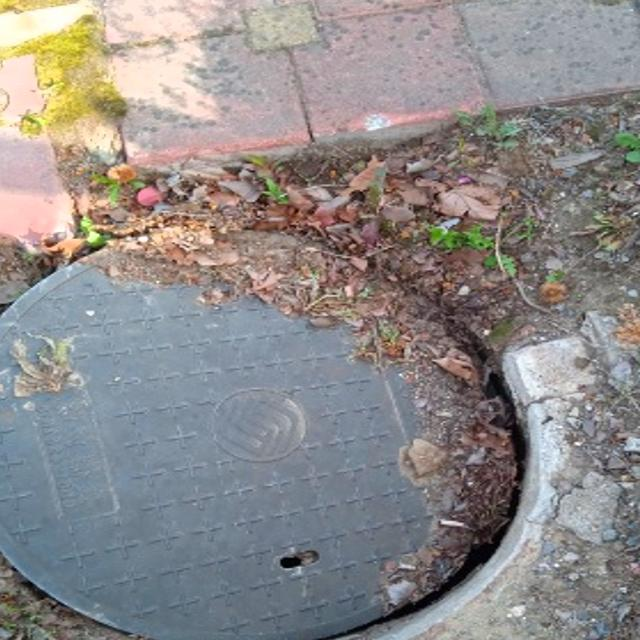uncovered: (0, 203, 556, 640)
